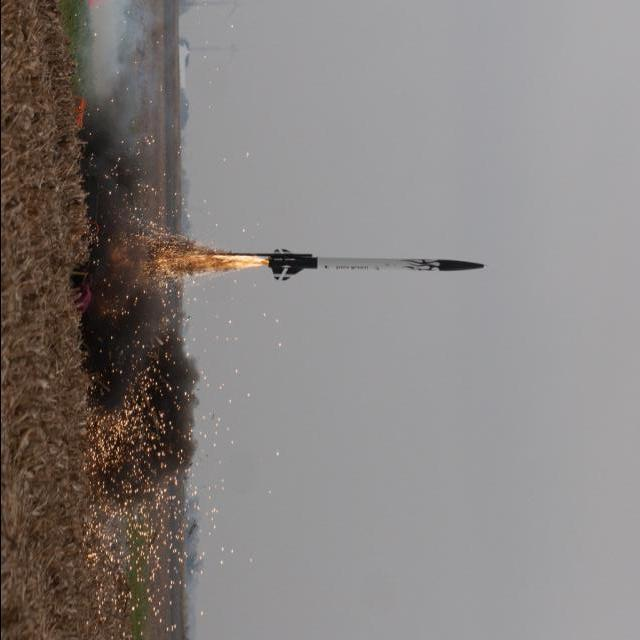missile: (268, 248, 486, 293)
